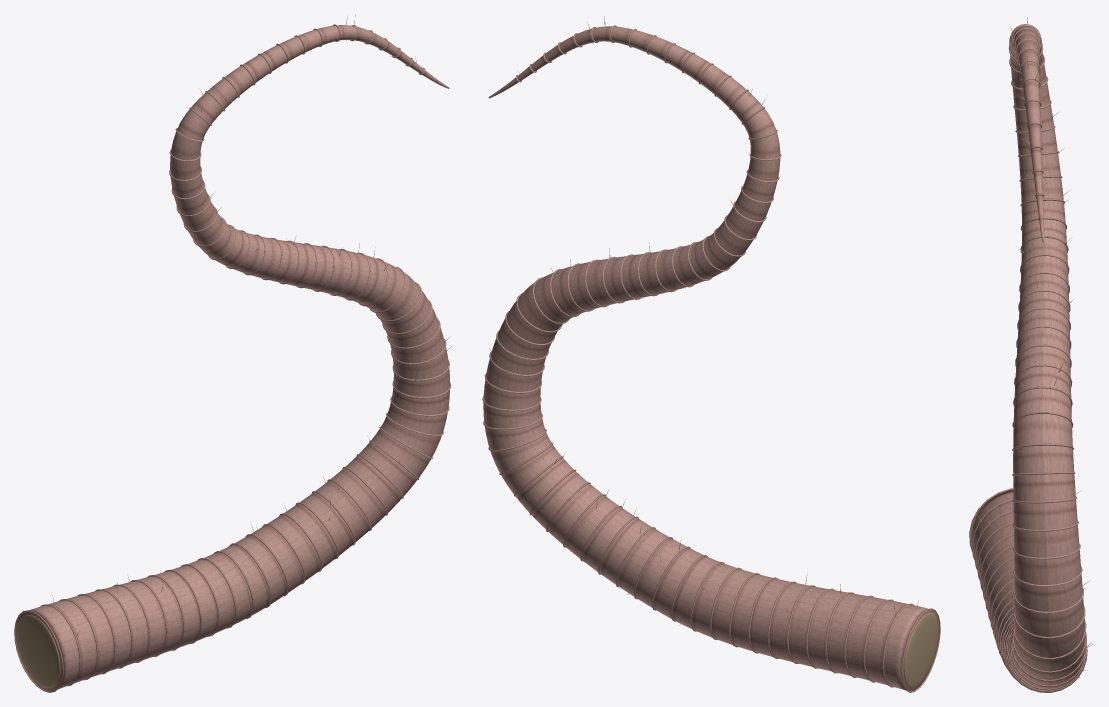
Rendered from rat_tail.glb.
The picture shows the model from 3 angles, left to right: view 1: azimuth 30°, elevation 25°; view 2: azimuth 150°, elevation 25°; view 3: azimuth 270°, elevation 25°; orthographic projection. The views are drawn at different scales.
Parts seen in each view (by area): view 1: Dry pink grey rat tail skin, Pale exposed tail tissue; view 2: Dry pink grey rat tail skin, Pale exposed tail tissue; view 3: Dry pink grey rat tail skin, Sparse stiff tail hairs.
Boxes of the visible parts, x1,y1,x2,y2 form: Dry pink grey rat tail skin: (14,24,451,692); Pale exposed tail tissue: (17,614,60,688); Dry pink grey rat tail skin: (482,25,940,692); Pale exposed tail tissue: (904,613,938,688); Dry pink grey rat tail skin: (969,24,1087,692); Sparse stiff tail hairs: (974,17,1093,682).
Bounding box in the file's own units: 0.1778 × 0.2383 × 0.0385.
3 materials, 1 textured.
